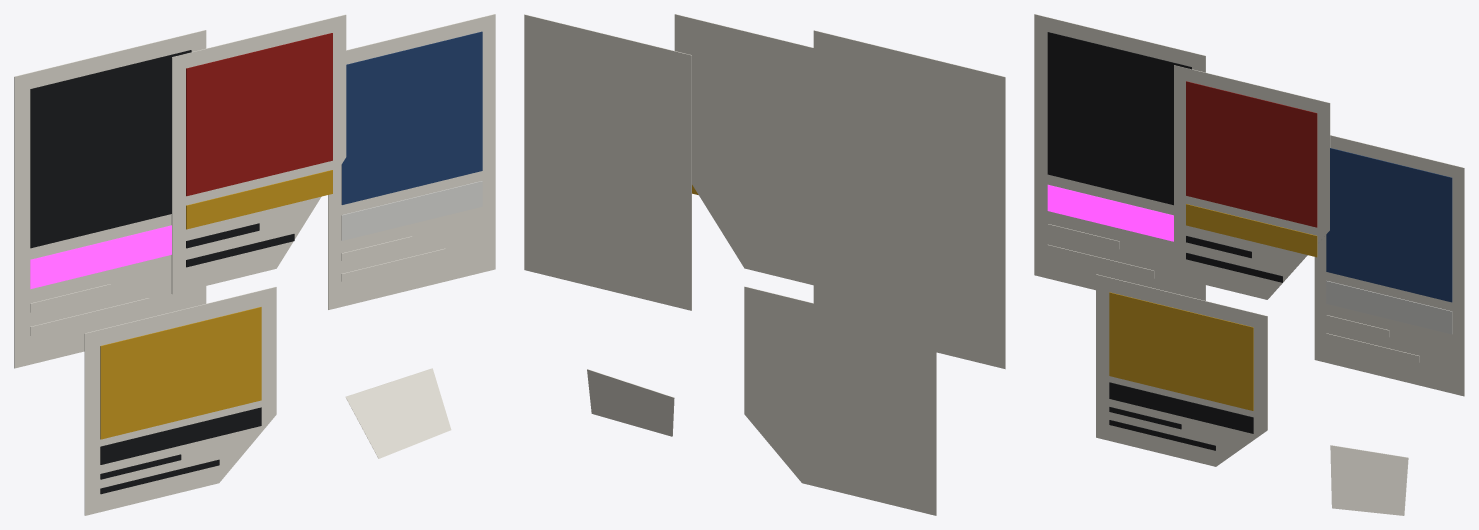
The model's file is posters_flyposted.glb.
The picture shows the model from 3 angles, left to right: view 1: azimuth 30°, elevation 25°; view 2: azimuth 150°, elevation 25°; view 3: azimuth 330°, elevation 25°; orthographic projection. The views are drawn at different scales.
Parts seen in each view (by area): view 1: posters_flyposted; view 2: posters_flyposted; view 3: posters_flyposted.
Part boxes in pixels (x1,y1,x2,y2): posters_flyposted: [14, 14, 495, 515]; posters_flyposted: [524, 14, 1005, 515]; posters_flyposted: [1034, 14, 1464, 515].
Bounding box in the file's own units: 1.38 × 1.25 × 0.08.
Materials: 1 (1 with a texture image).
